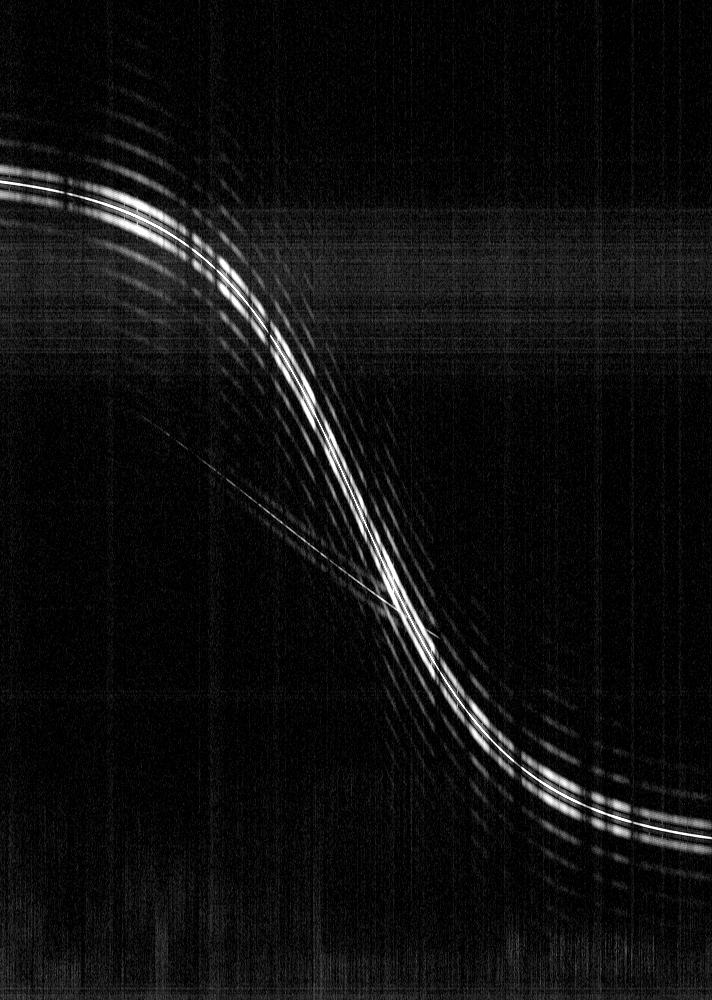signal: (0, 0, 711, 999)
